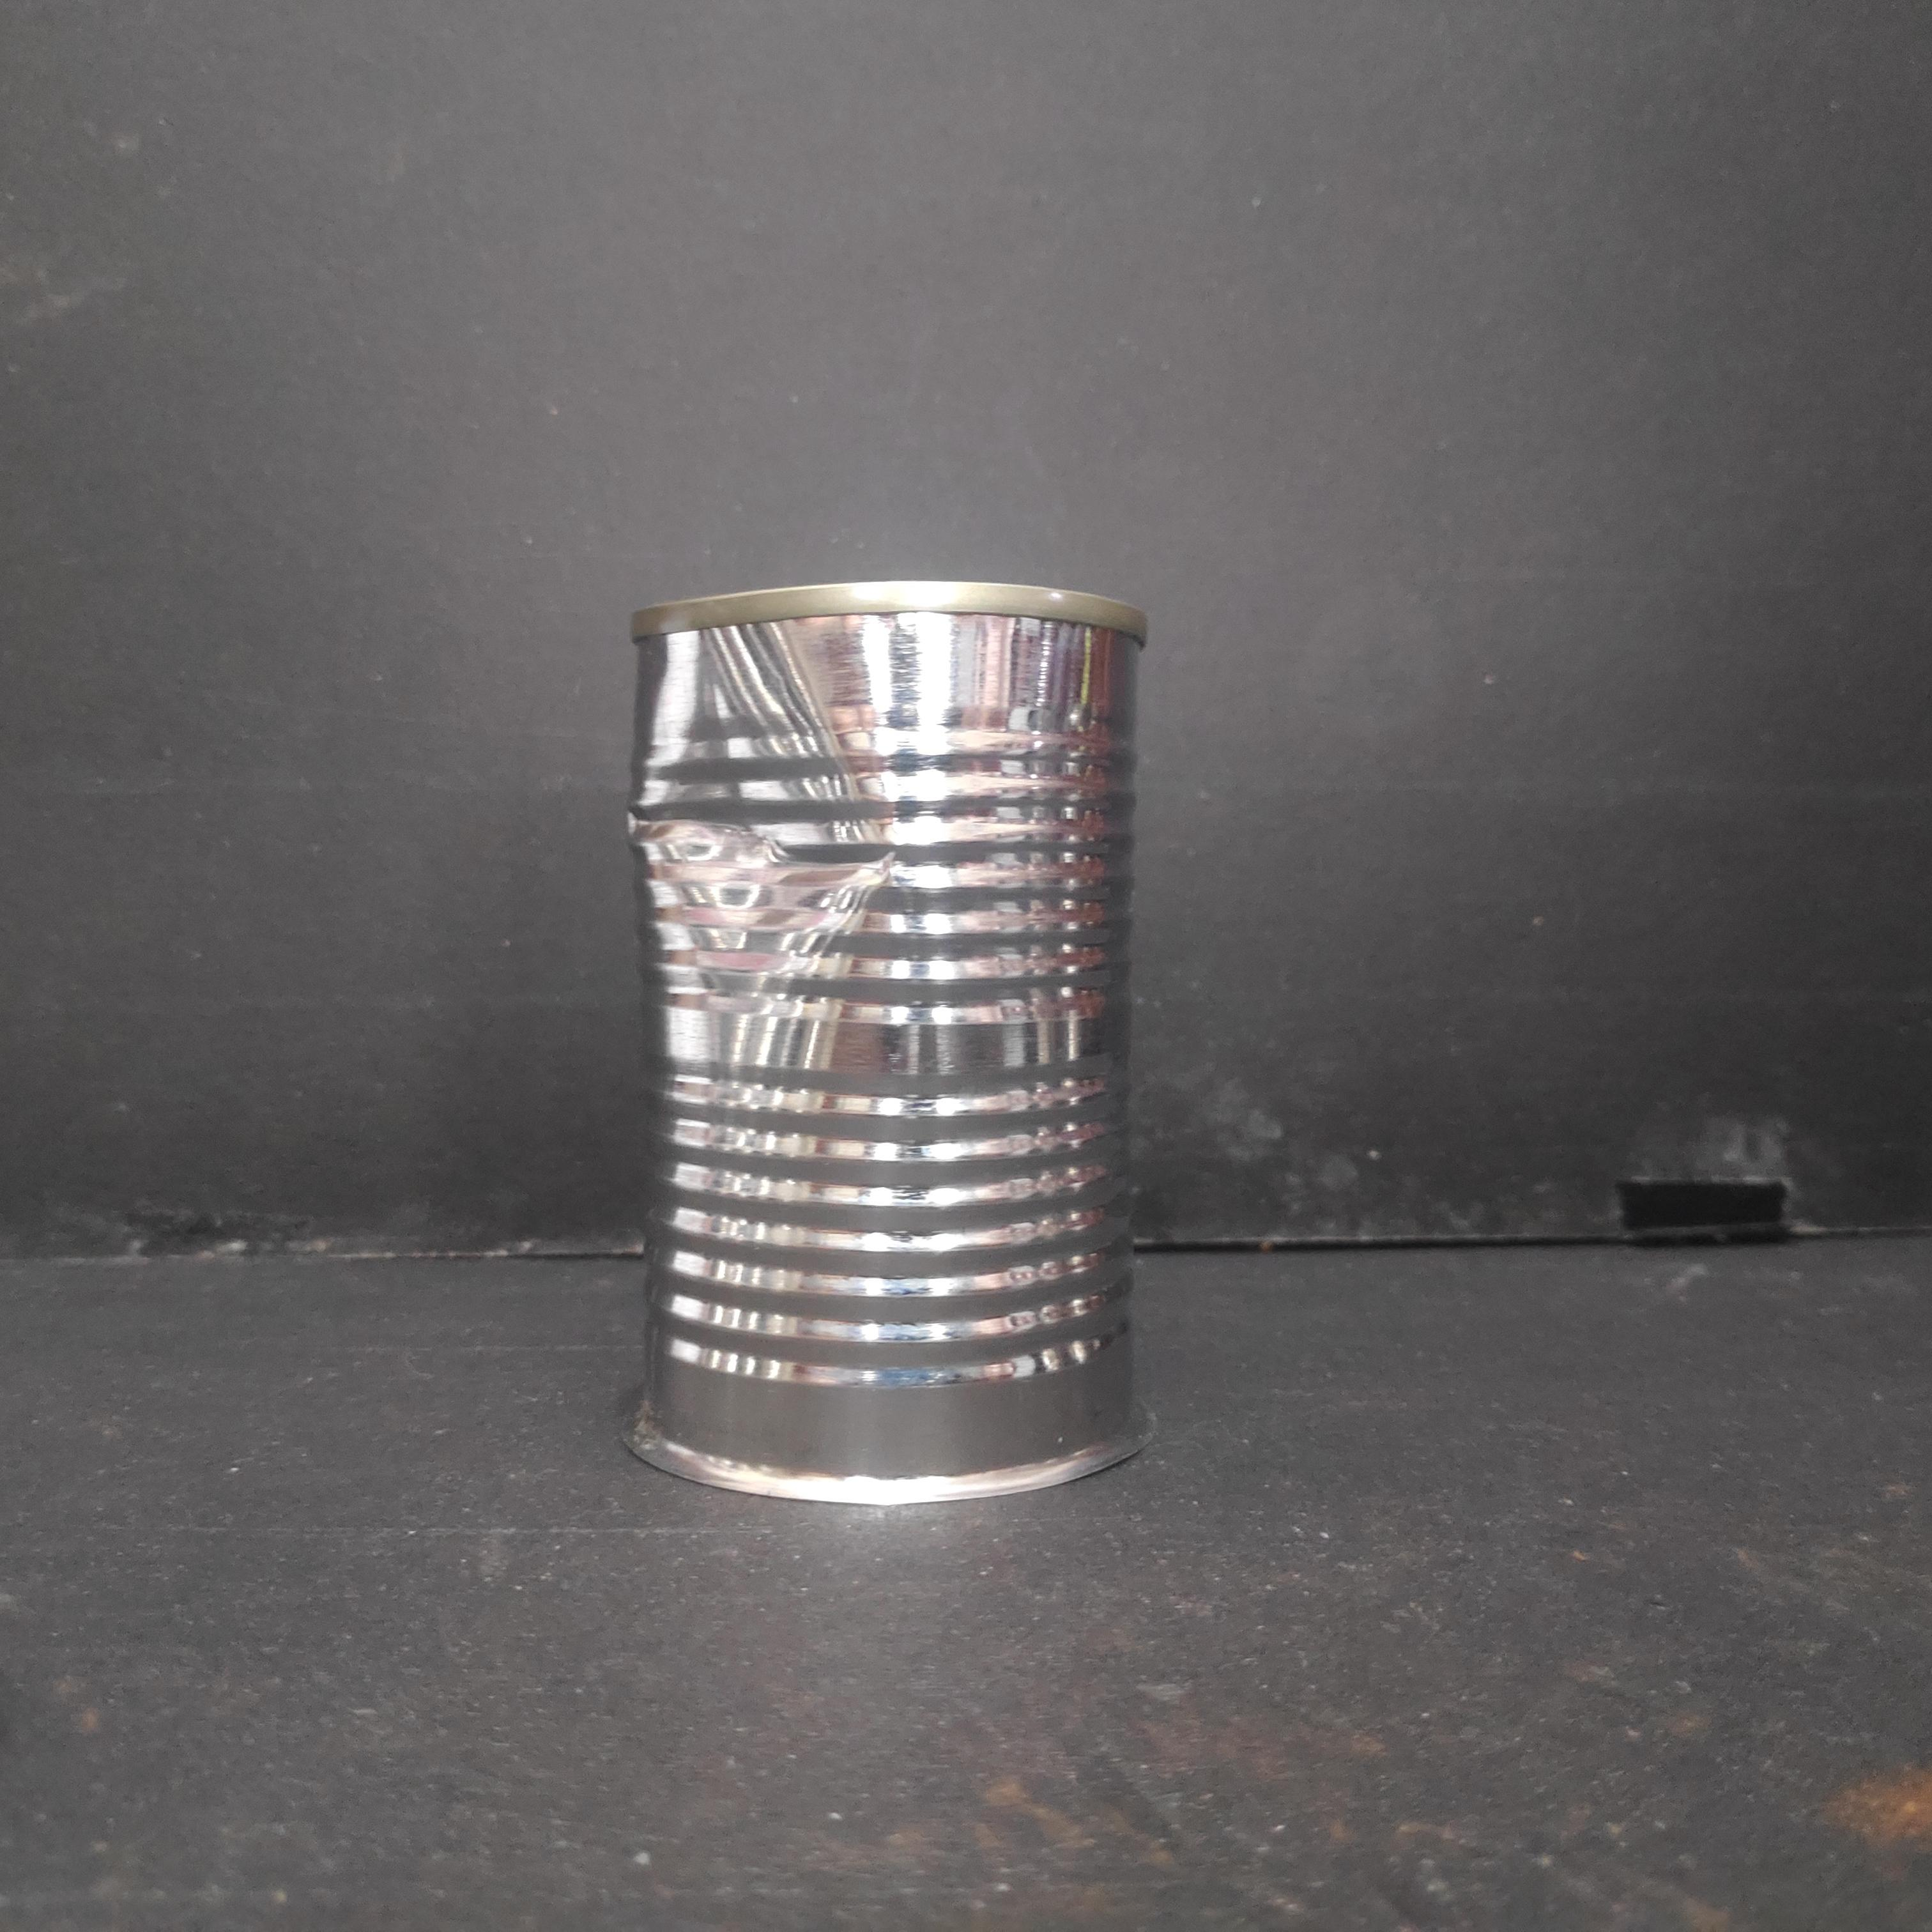Minor Defect: (617, 570, 1157, 1518)
